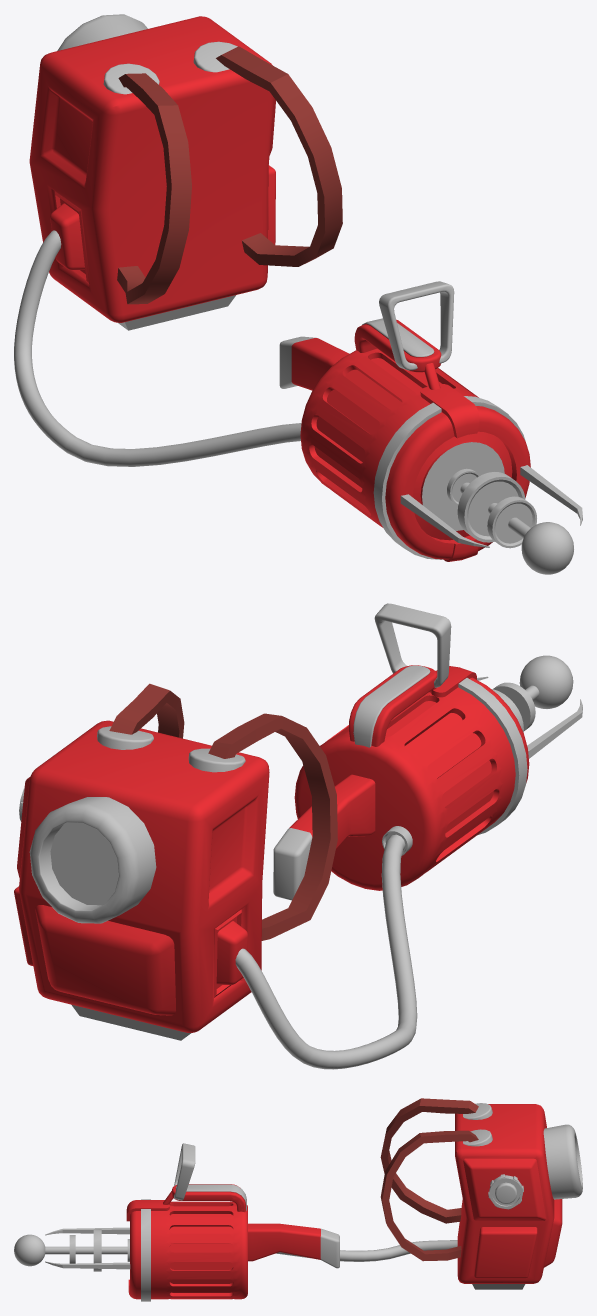
The model's file is lazer-silah.fbx.
3 views of the same model, one above another, from view 1: azimuth 30°, elevation 25°; view 2: azimuth 150°, elevation 25°; view 3: azimuth 270°, elevation 25° (orthographic). The views are drawn at different scales.
Visible parts, largest first — view 1: canta, silah, hortum; view 2: canta, silah, hortum; view 3: canta, silah, hortum.
Boxes of the visible parts, left/top/right/bottom form: canta: left=29, top=14, right=342, bottom=330; silah: left=279, top=281, right=582, bottom=574; hortum: left=14, top=230, right=301, bottom=466; canta: left=14, top=683, right=337, bottom=1040; silah: left=273, top=603, right=582, bottom=900; hortum: left=235, top=834, right=417, bottom=1069; canta: left=380, top=1098, right=582, bottom=1289; silah: left=14, top=1143, right=339, bottom=1301; hortum: left=276, top=1240, right=457, bottom=1261.
Bounding box in the file's own units: 268 × 276 × 754.
